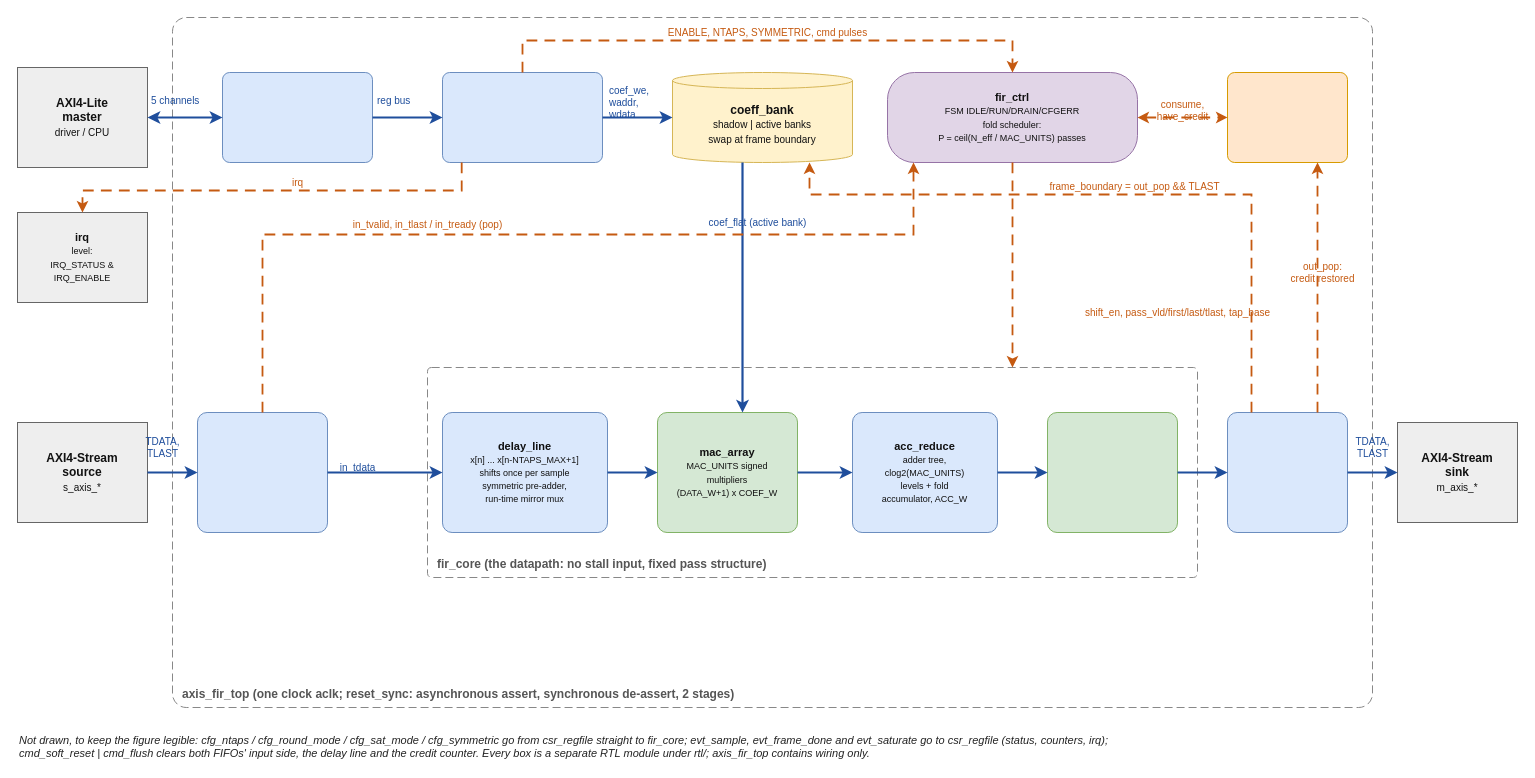
Some shapes in this 1535 by 778 pixel diagram are drawn without their labels. The centre of each missing label's shape, as x and y in pixels:
axil_slave AXI4-Lite protocol engine, SLVERR: the point at 297,117
credit_ctr in flight + out_fifo <= OUT_FIFO_DEPTH: the point at 1287,117
csr_regfile CTRL CFG STATUS IRQ CAPABILITY, counters: the point at 522,117
in_fifo axis_fifo IN_FIFO_DEPTH s_axis_tready = !full: the point at 262,472
out_fifo axis_fifo OUT_FIFO_DEPTH m_axis_tvalid = !empty: the point at 1287,472
round_sat TRUNC / HALF_UP / CONVERGENT; saturate -> sat_event: the point at 1112,472
